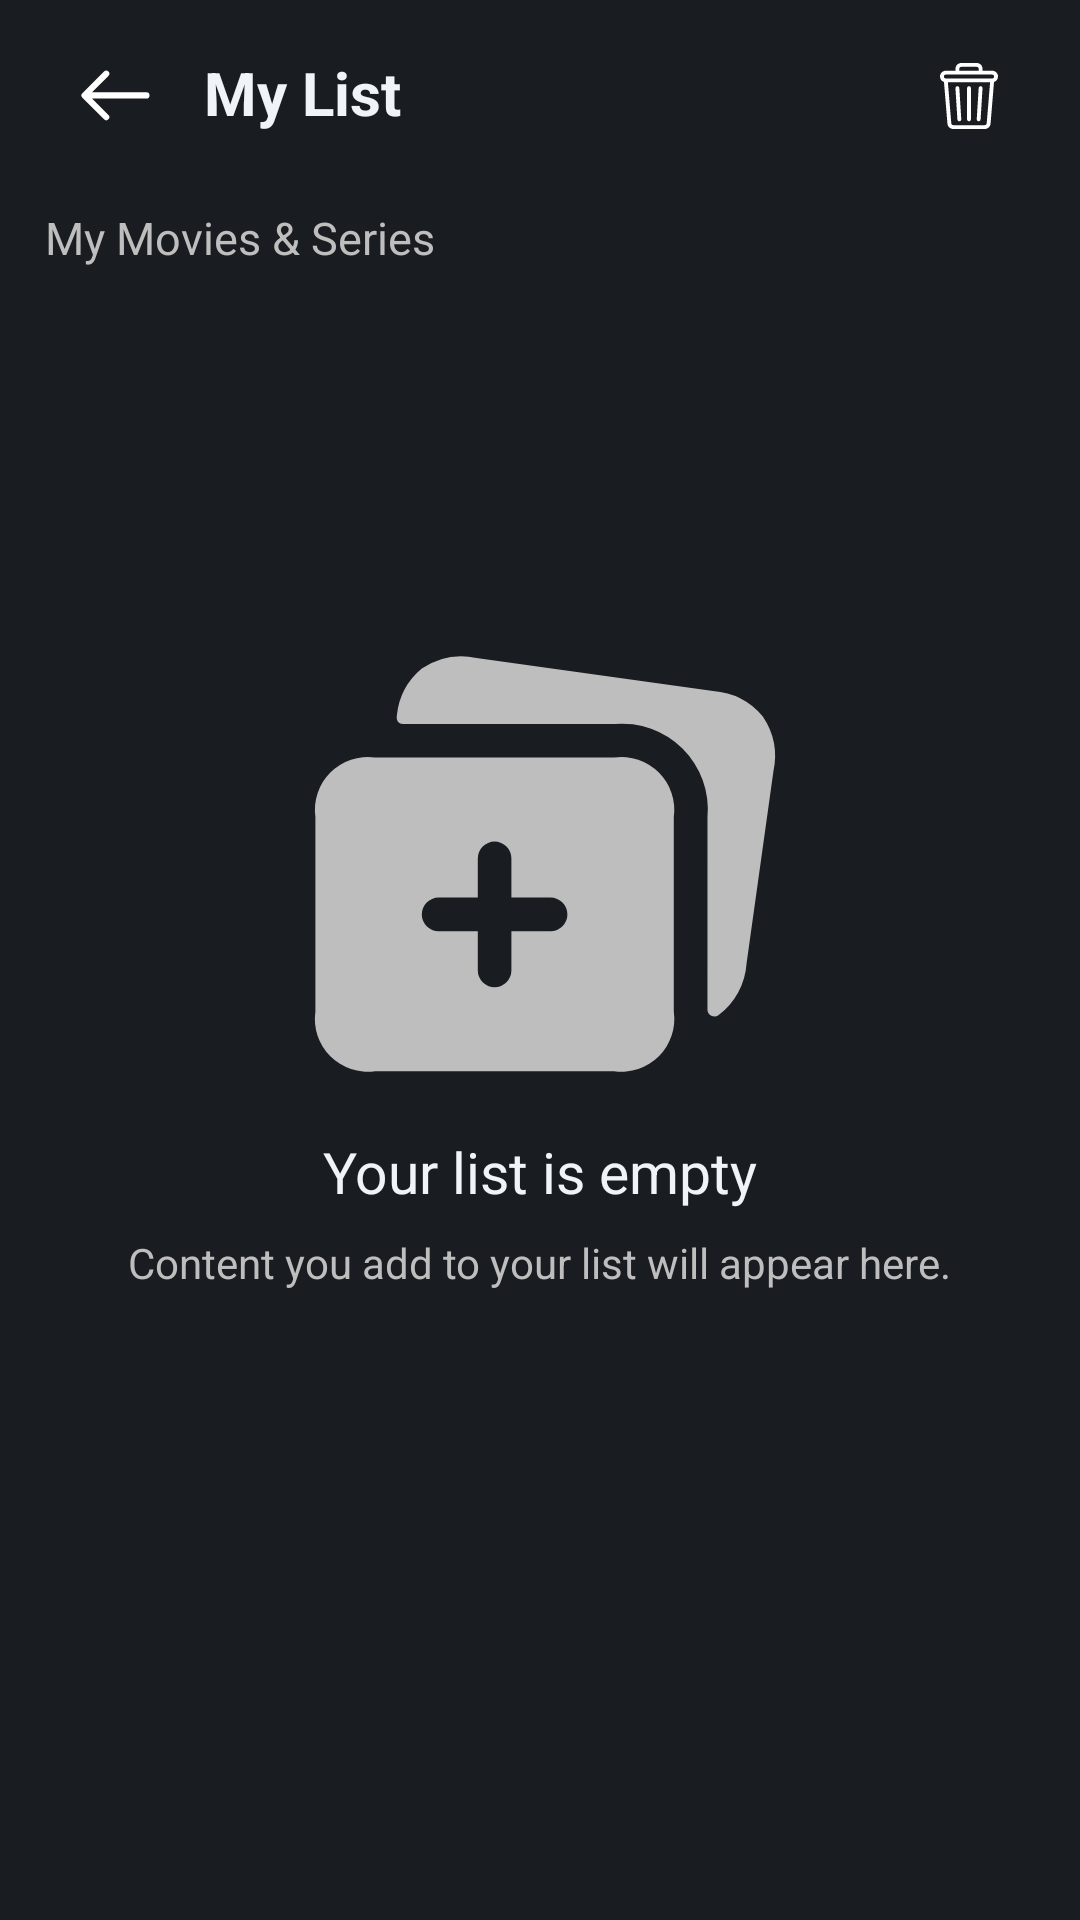

Where icons sit on this 1080 × 1920 app screen, as (x1, y1, x2, y2):
arrow back: (81, 70, 150, 121)
delete: (940, 63, 998, 129)
